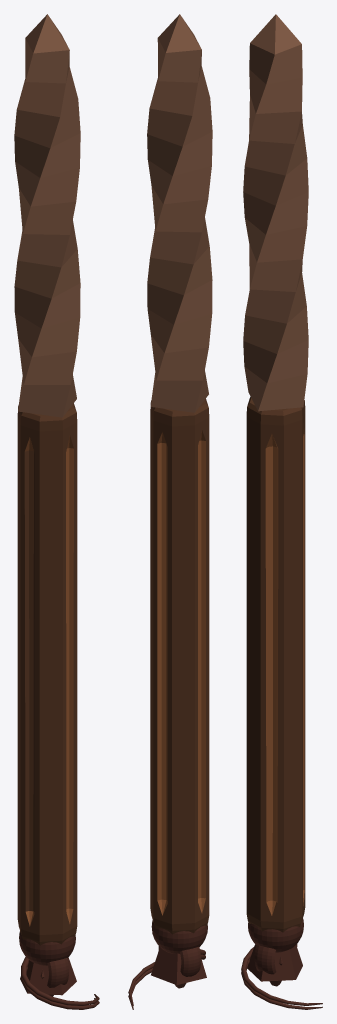
File: Wand 559.glb
The picture shows the model from 3 angles, left to right: view 1: azimuth 30°, elevation 25°; view 2: azimuth 210°, elevation 25°; view 3: azimuth 330°, elevation 25°; orthographic projection.
Parts seen in each view (by area): view 1: GeneratedWand, Pommel_4, Pommel_9, Pommel_2, Pommel_10; view 2: GeneratedWand, Pommel_4, Pommel_9, Pommel_2; view 3: GeneratedWand, Pommel_9, Pommel_4, Pommel_2, Pommel_10.
Part boxes in pixels (bbox=[...]): GeneratedWand: bbox=[14, 14, 99, 1005]; Pommel_4: bbox=[19, 931, 75, 965]; Pommel_9: bbox=[20, 957, 76, 995]; Pommel_2: bbox=[47, 958, 68, 987]; Pommel_10: bbox=[21, 966, 99, 1009]; GeneratedWand: bbox=[128, 14, 212, 1005]; Pommel_4: bbox=[151, 920, 207, 953]; Pommel_9: bbox=[151, 947, 206, 984]; Pommel_2: bbox=[158, 946, 201, 976]; GeneratedWand: bbox=[241, 14, 322, 1005]; Pommel_9: bbox=[247, 944, 302, 981]; Pommel_4: bbox=[248, 918, 303, 952]; Pommel_2: bbox=[254, 944, 297, 974]; Pommel_10: bbox=[241, 959, 322, 1009].
Size of the model in its own units: 0.0413 by 0.515 by 0.0358.
